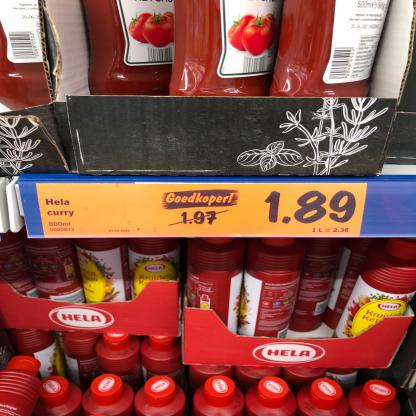prtg: (37, 184, 369, 238)
